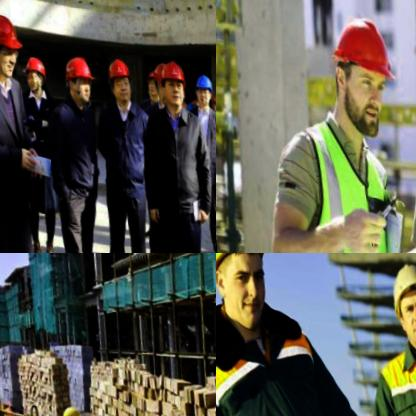helmet: (312, 3, 403, 138), (216, 253, 282, 335), (375, 253, 416, 351), (58, 53, 96, 108), (151, 55, 187, 108), (100, 55, 134, 105), (0, 11, 24, 75), (17, 53, 49, 95), (188, 67, 214, 106), (141, 63, 161, 104), (51, 403, 80, 416)
